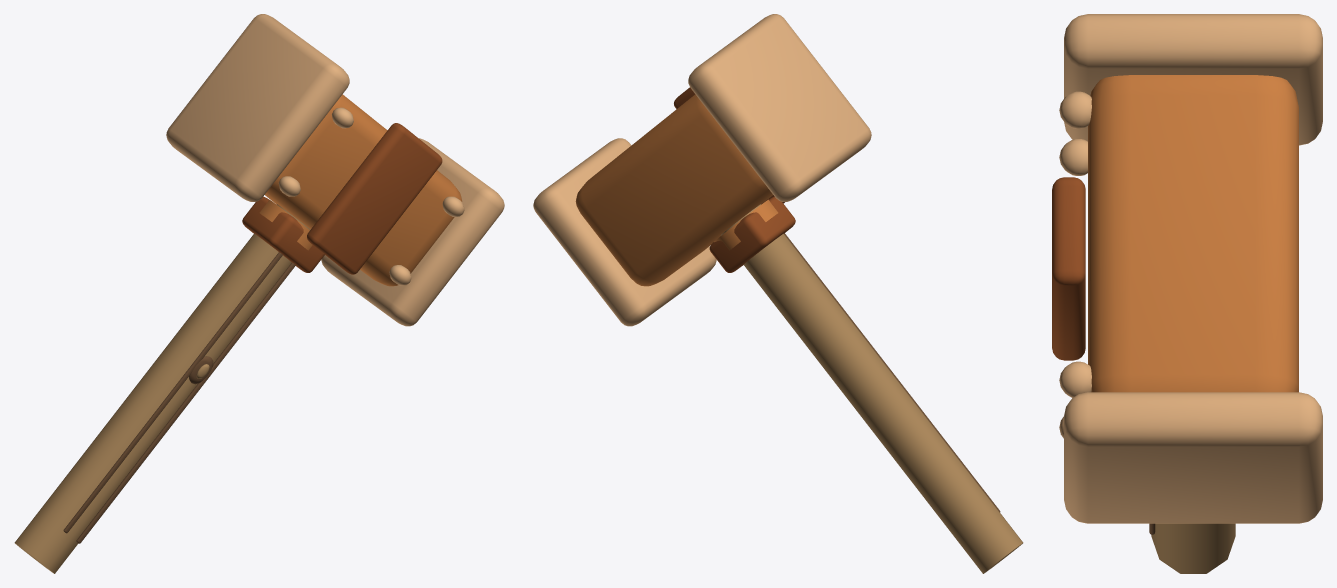
Rendered from copperhammer.glb.
The picture shows the model from 3 angles, left to right: view 1: azimuth 30°, elevation 25°; view 2: azimuth 150°, elevation 25°; view 3: azimuth 270°, elevation 25°; orthographic projection. The views are drawn at different scales.
Visible parts, largest first — view 1: _copper_spine_plate, _pine_grain, _copper_head, _peened_copper_rivet; view 2: _copper_spine_plate, _copper_head, _pine_grain, _peened_copper_rivet; view 3: _copper_head, _copper_spine_plate, _pine_grain, _peened_copper_rivet.
Part boxes in pixels (x1,y1,x2,y2): _copper_spine_plate: (166,14,504,326); _pine_grain: (14,204,310,573); _copper_head: (242,94,462,286); _peened_copper_rivet: (259,107,464,285); _copper_spine_plate: (533,14,871,326); _copper_head: (575,94,795,286); _pine_grain: (720,204,1023,573); _peened_copper_rivet: (714,199,778,250); _copper_head: (1088,75,1298,392); _copper_spine_plate: (1052,14,1322,523); _pine_grain: (1149,523,1235,573); _peened_copper_rivet: (1059,91,1091,438).
Bounding box in the file's own units: 1.08 × 1.08 × 0.3531.
